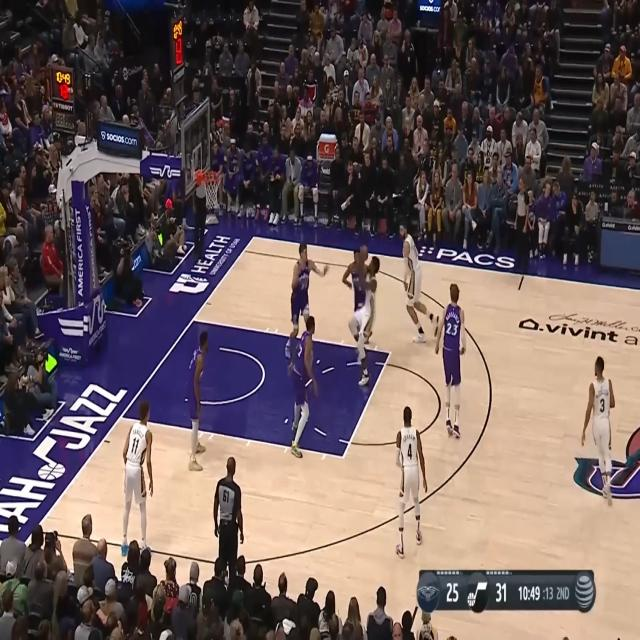Ball: (359, 243, 369, 263)
Hoop: (204, 168, 223, 210)
Period: (555, 582, 569, 600)
Player: (397, 218, 441, 346), (284, 238, 330, 360), (580, 354, 616, 506), (394, 403, 428, 559), (435, 281, 468, 439), (120, 403, 154, 556), (289, 314, 319, 456), (350, 252, 381, 388), (185, 328, 209, 471), (342, 245, 372, 344)
Ref: (212, 455, 244, 584), (191, 169, 208, 265)
Shot Clock: (542, 583, 555, 604)
Team Points: (492, 580, 508, 604), (447, 578, 460, 604)
Time Remaining: (517, 583, 541, 603)
